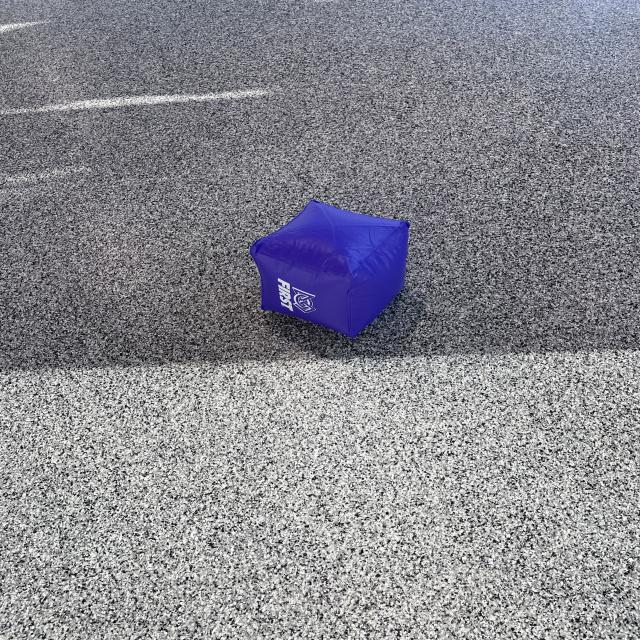frc_cube: (239, 197, 432, 347)
